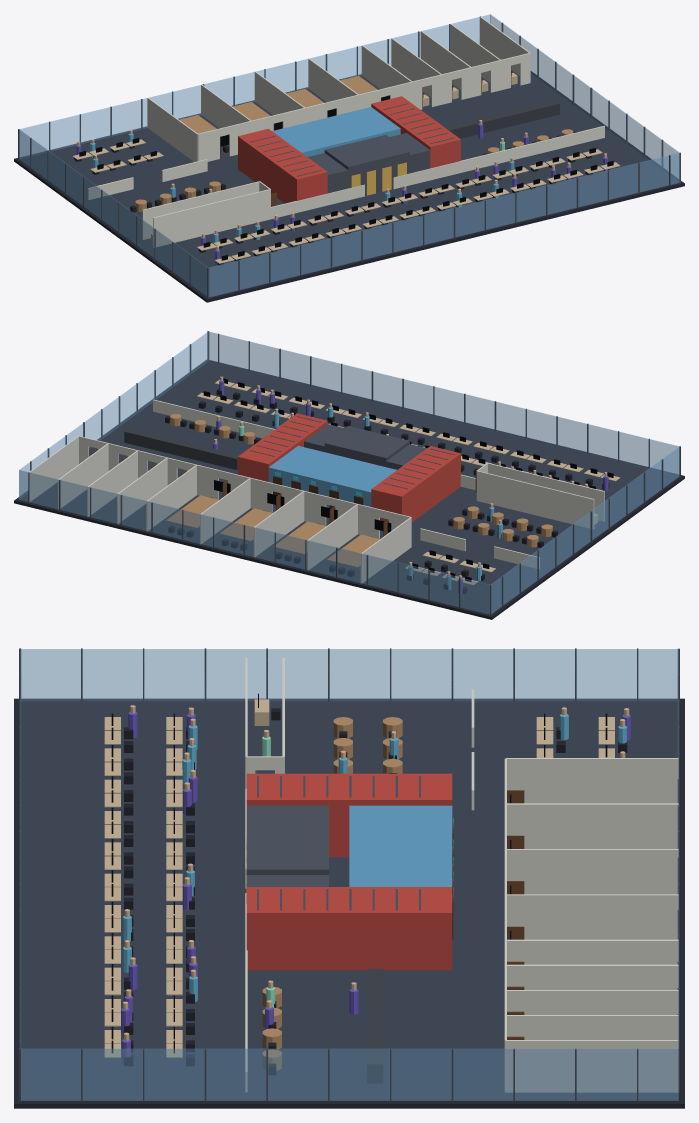
3 views of the same model, one above another, from view 1: azimuth 30°, elevation 25°; view 2: azimuth 150°, elevation 25°; view 3: azimuth 270°, elevation 25° (orthographic). The views are drawn at different scales.
Visible parts, largest first — view 1: L21_floor_carpet, L21_glass, L21_wall, L21_core, L21_stair, L21_desk, L21_slab, L21_wash, L21_table, L21_screen, L21_counter, L21_chair (+4 smaller); view 2: L21_glass, L21_floor_carpet, L21_wall, L21_core, L21_stair, L21_slab, L21_table, L21_wash, L21_chair, L21_desk, L21_screen, L21_counter (+2 smaller); view 3: L21_floor_carpet, L21_glass, L21_wall, L21_stair, L21_core, L21_desk, L21_slab, L21_wash, L21_chair, L21_table, L21_role_manager, L21_role_analyst (+4 smaller).
Boxes of the visible parts, left/top/right/bottom form: L21_floor_carpet: left=19, top=70, right=679, bottom=297; L21_glass: left=19, top=14, right=679, bottom=296; L21_wall: left=88, top=17, right=604, bottom=247; L21_core: left=18, top=16, right=680, bottom=298; L21_stair: left=238, top=96, right=460, bottom=203; L21_desk: left=72, top=73, right=620, bottom=263; L21_slab: left=14, top=71, right=684, bottom=302; L21_wash: left=272, top=107, right=400, bottom=156; L21_table: left=135, top=76, right=573, bottom=211; L21_screen: left=79, top=71, right=613, bottom=260; L21_counter: left=444, top=100, right=559, bottom=138; L21_chair: left=74, top=78, right=609, bottom=265; L21_glass: left=19, top=331, right=679, bottom=614; L21_floor_carpet: left=19, top=361, right=679, bottom=614; L21_wall: left=28, top=399, right=604, bottom=583; L21_core: left=28, top=331, right=680, bottom=615; L21_stair: left=238, top=413, right=460, bottom=522; L21_slab: left=14, top=360, right=684, bottom=619; L21_table: left=166, top=414, right=552, bottom=567; L21_wash: left=268, top=445, right=396, bottom=507; L21_chair: left=165, top=388, right=609, bottom=593; L21_desk: left=197, top=379, right=620, bottom=585; L21_screen: left=203, top=378, right=613, bottom=581; L21_counter: left=124, top=428, right=239, bottom=469; L21_floor_carpet: left=21, top=700, right=678, bottom=1101; L21_glass: left=20, top=649, right=678, bottom=1100; L21_wall: left=245, top=657, right=678, bottom=1092; L21_stair: left=246, top=773, right=452, bottom=970; L21_core: left=19, top=648, right=679, bottom=1101; L21_desk: left=104, top=699, right=614, bottom=1057; L21_slab: left=14, top=698, right=684, bottom=1108; L21_wash: left=349, top=805, right=452, bottom=886; L21_chair: left=124, top=708, right=627, bottom=1075; L21_table: left=262, top=717, right=402, bottom=1070; L21_role_manager: left=121, top=712, right=630, bottom=1064; L21_role_analyst: left=122, top=714, right=626, bottom=1001.
Bounding box in the file's own units: 46.6 × 3.37 × 32.6.
